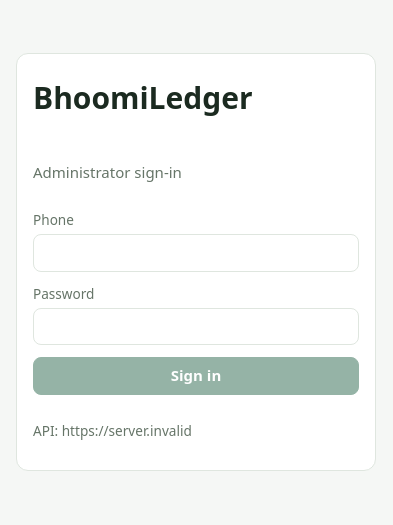
Test: admin panel › shows a wrong-password error from the server
In the field labelled "Phone": (196, 253) [33, 234, 359, 272], type "0000000000"
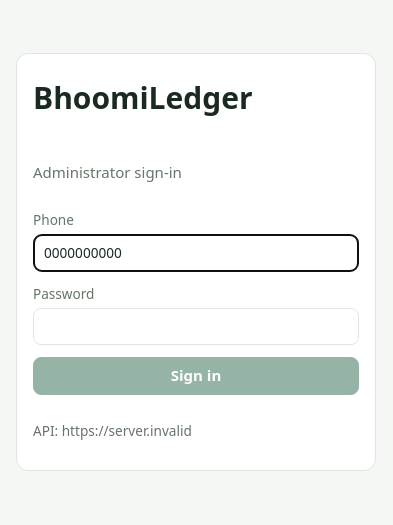
In the password field labelled "Password": (196, 326) [33, 308, 359, 345], type "nope"
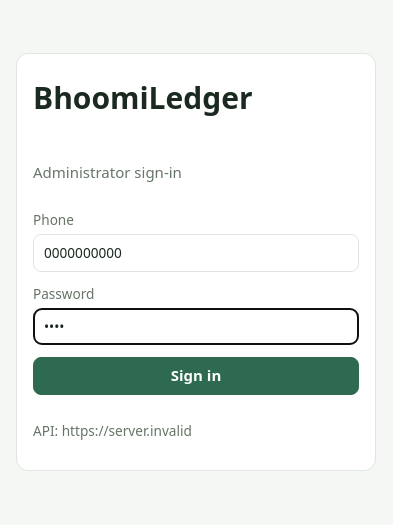
Click the button "Sign in": (196, 376) [33, 357, 359, 395]
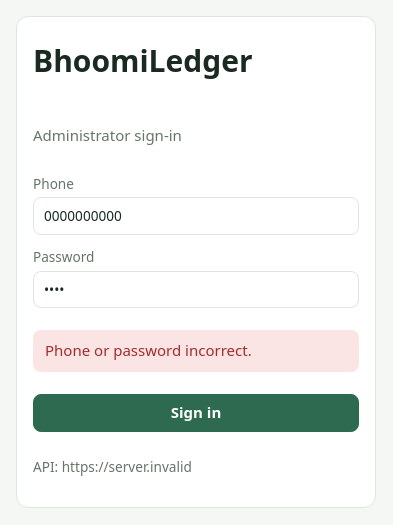
Now the message reads "Phone or password incorrect.", box [45, 340, 252, 360]
